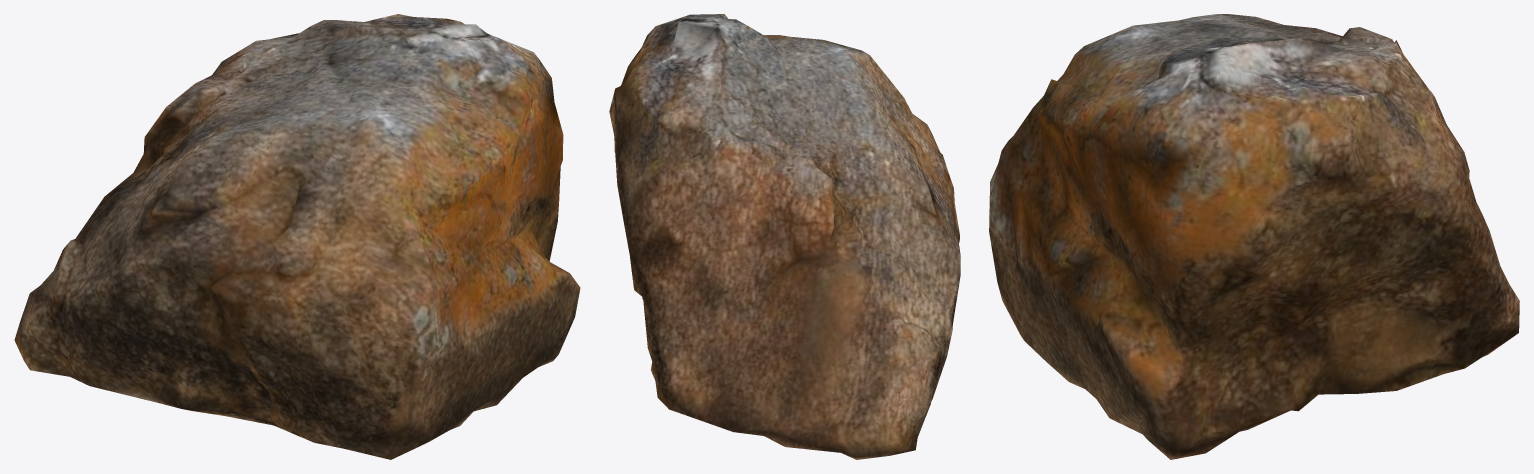
The model's file is rock-round-lod0.glb.
The picture shows the model from 3 angles, left to right: view 1: azimuth 30°, elevation 25°; view 2: azimuth 150°, elevation 25°; view 3: azimuth 270°, elevation 25°; orthographic projection. The views are drawn at different scales.
Visible parts, largest first — view 1: boulder_04; view 2: boulder_04; view 3: boulder_04.
Boxes of the visible parts, x1,y1,x2,y2 form: boulder_04: (14,14,580,459); boulder_04: (609,14,960,459); boulder_04: (989,14,1519,459).
Bounding box in the file's own units: 2.51 × 1.89 × 2.47.
1 material, 1 textured.
